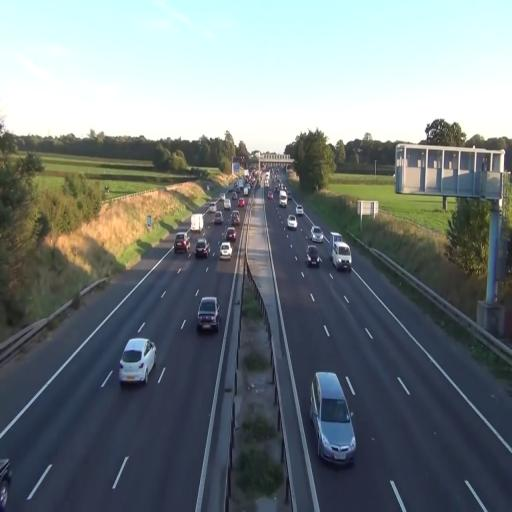vehicle: (310, 370, 356, 468), (118, 336, 156, 386), (196, 296, 220, 333), (332, 243, 352, 273), (173, 230, 189, 254), (195, 234, 208, 258), (306, 246, 320, 266), (220, 240, 232, 258), (286, 214, 298, 231)
